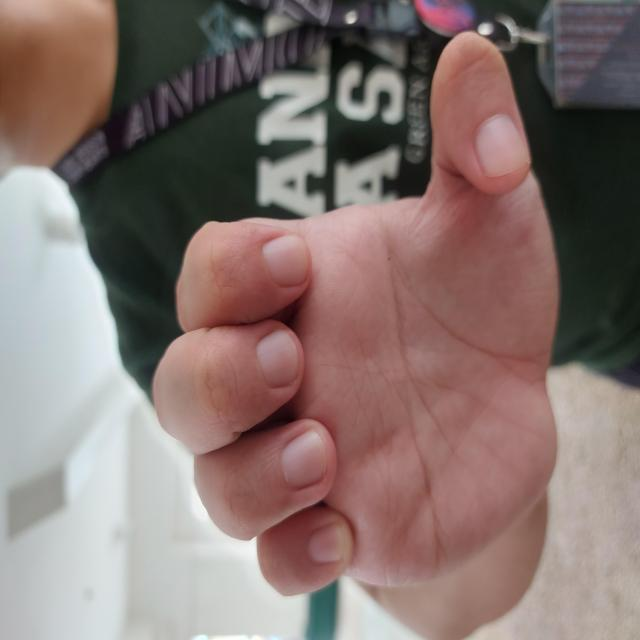E: (40, 151, 610, 562)
